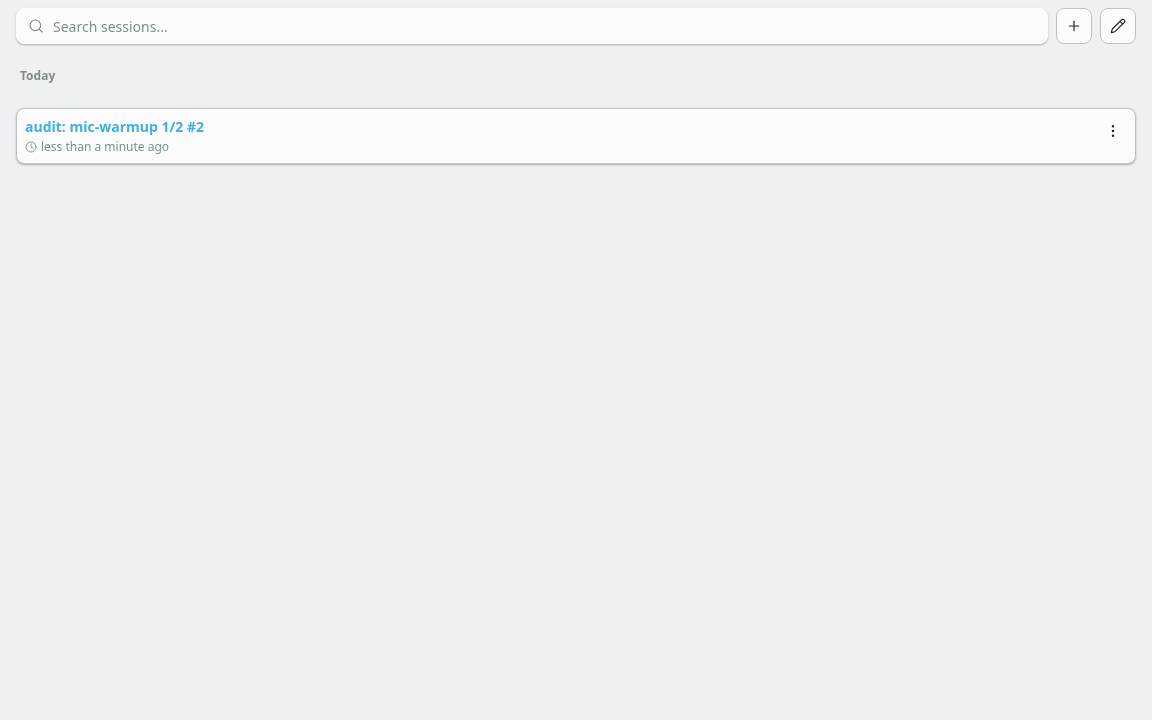
SessionList › shows search-results empty state instead of create-session card when search returns no results
Type "nonexistent" into the field with placeholder "Search sessions..." at (532, 26), box [16, 8, 1048, 44]
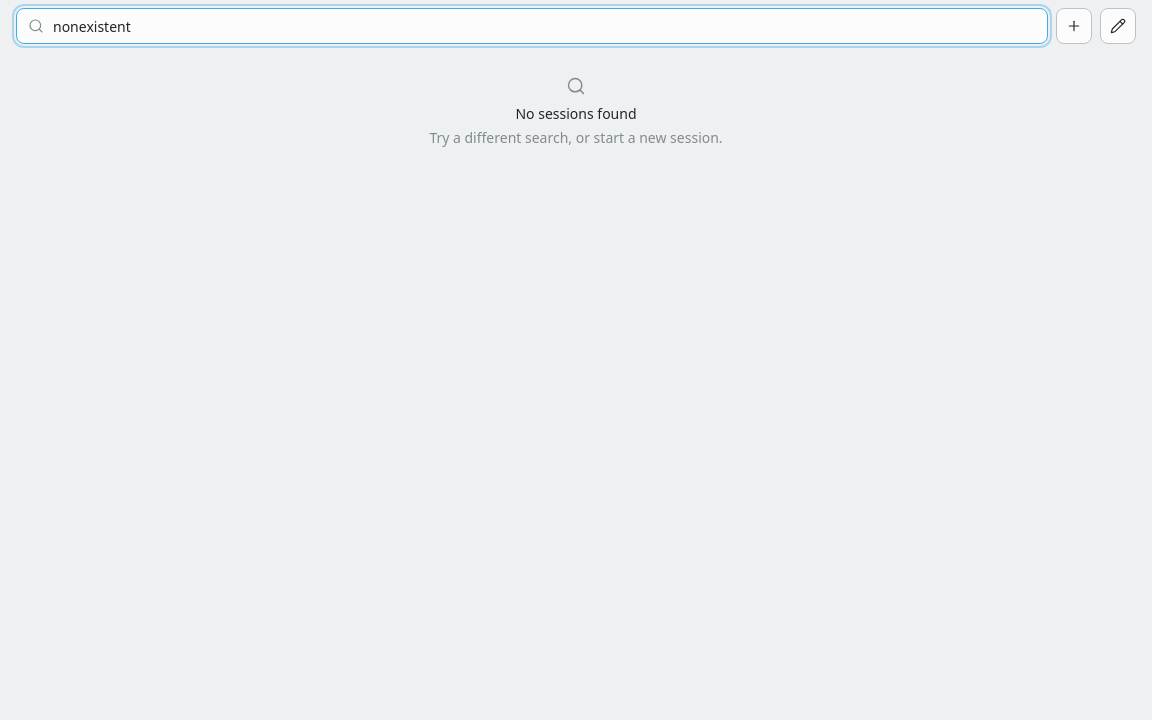
expect the text "No sessions found" is shown: met, box [516, 104, 636, 124]
